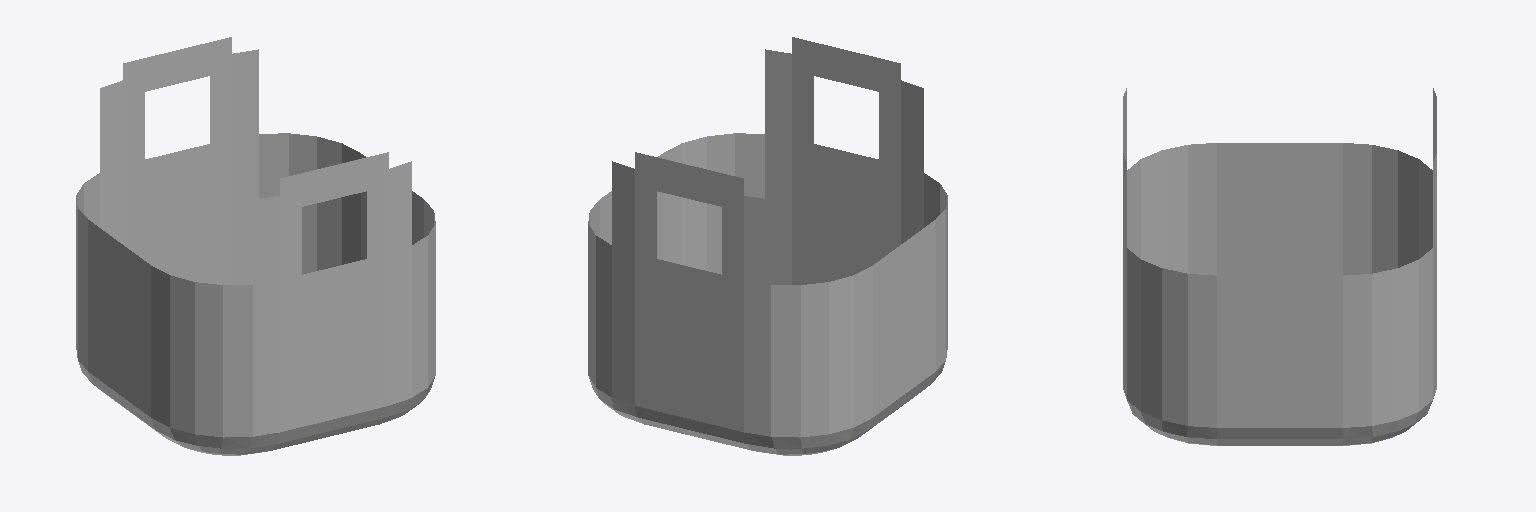
Rendered from bag1_5.obj.
The picture shows the model from 3 angles: view 1: azimuth 30°, elevation 25°; view 2: azimuth 150°, elevation 25°; view 3: azimuth 270°, elevation 25°; orthographic projection.
Visible parts, largest first — view 1: Cube-0-1.048_Cube.163; view 2: Cube-0-1.048_Cube.163; view 3: Cube-0-1.048_Cube.163.
Boxes of the visible parts, x1=… form: Cube-0-1.048_Cube.163: x1=76, y1=37, x2=435, y2=455; Cube-0-1.048_Cube.163: x1=588, y1=37, x2=947, y2=455; Cube-0-1.048_Cube.163: x1=1123, y1=88, x2=1436, y2=445.
Bounding box in the file's own units: 2 × 2.08 × 2.